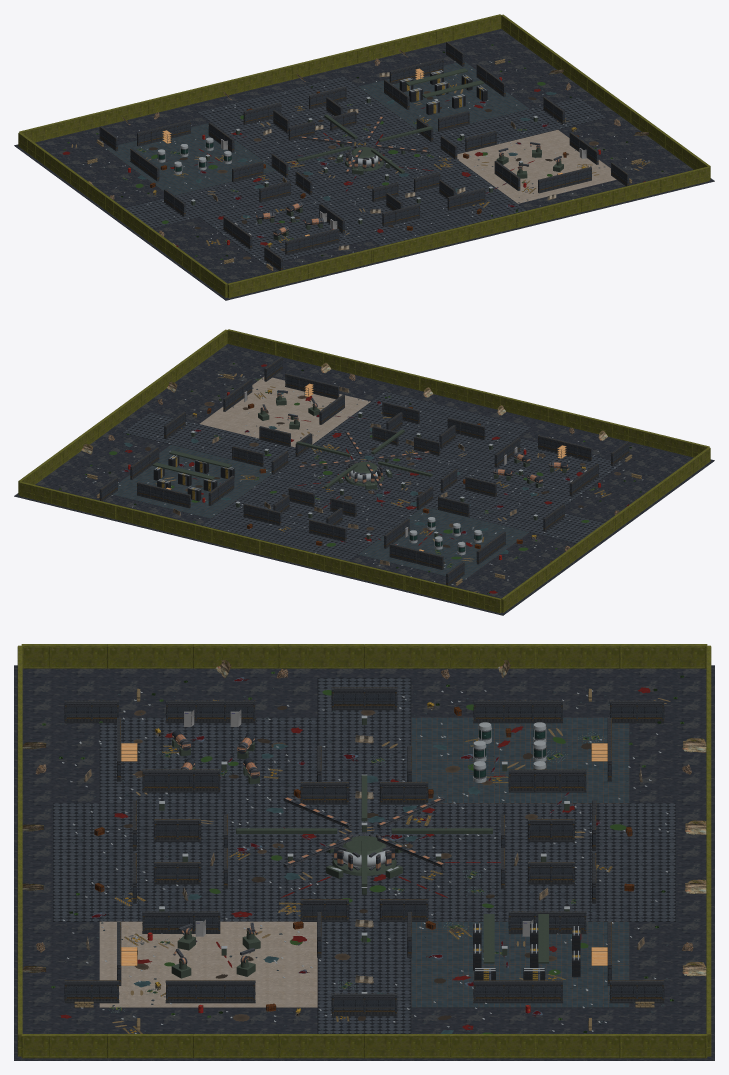
The model's file is Map2_Yeralti_Kuantum_Labirenti_5v5v5v5_v3.gltf.
3 renders of one model, top to bottom at view 1: azimuth 30°, elevation 25°; view 2: azimuth 150°, elevation 25°; view 3: azimuth 270°, elevation 25°, orthographic. The views are drawn at different scales.
Visible parts, largest first — view 1: Terrain_Quantum_Basalt, Floor_Tokamak_Core, Floor_Inner_Ring_North, Floor_Inner_Ring_South, Floor_SE_Robotics_Sector, Floor_SW_Accelerator_Sector, Floor_NW_BioStasis_Sector, Floor_NE_QuantumServer_Sector, Floor_Inner_Ring_West, Floor_Inner_Ring_East, Wall_Labyrinth_19, Wall_Labyrinth_20 (+32 smaller); view 2: Terrain_Quantum_Basalt, Floor_Tokamak_Core, Floor_Inner_Ring_South, Floor_Inner_Ring_North, Floor_SE_Robotics_Sector, Floor_SW_Accelerator_Sector, Floor_NW_BioStasis_Sector, Floor_NE_QuantumServer_Sector, Floor_Inner_Ring_West, Floor_Inner_Ring_East, Wall_Labyrinth_17, Wall_Labyrinth_18 (+32 smaller); view 3: Terrain_Quantum_Basalt, Floor_Tokamak_Core, Floor_Inner_Ring_North, Floor_Inner_Ring_South, Floor_SW_Accelerator_Sector, Floor_NW_BioStasis_Sector, Floor_SE_Robotics_Sector, Floor_NE_QuantumServer_Sector, Floor_Inner_Ring_East, Floor_Inner_Ring_West, Wall_Perimeter_24, Wall_Perimeter_25 (+41 smaller).
Boxes of the visible parts, box(x1,y1,x2,y2) form: Terrain_Quantum_Basalt: box(14, 29, 714, 300); Floor_Tokamak_Core: box(249, 114, 479, 211); Floor_Inner_Ring_North: box(197, 76, 394, 149); Floor_Inner_Ring_South: box(334, 176, 526, 246); Floor_SE_Robotics_Sector: box(457, 129, 616, 203); Floor_SW_Accelerator_Sector: box(199, 191, 370, 265); Floor_NW_BioStasis_Sector: box(105, 123, 276, 195); Floor_NE_QuantumServer_Sector: box(358, 61, 529, 132); Floor_Inner_Ring_West: box(124, 170, 304, 228); Floor_Inner_Ring_East: box(433, 97, 606, 153); Wall_Labyrinth_19: box(285, 228, 339, 254); Wall_Labyrinth_20: box(538, 167, 591, 193); Terrain_Quantum_Basalt: box(14, 344, 714, 615); Floor_Tokamak_Core: box(249, 429, 479, 526); Floor_Inner_Ring_South: box(334, 391, 531, 464); Floor_Inner_Ring_North: box(202, 491, 394, 561); Floor_SE_Robotics_Sector: box(199, 376, 370, 447); Floor_SW_Accelerator_Sector: box(452, 438, 623, 510); Floor_NW_BioStasis_Sector: box(358, 506, 529, 580); Floor_NE_QuantumServer_Sector: box(112, 444, 271, 518); Floor_Inner_Ring_West: box(424, 485, 604, 543); Floor_Inner_Ring_East: box(122, 412, 295, 468); Wall_Labyrinth_17: box(389, 543, 443, 569); Wall_Labyrinth_18: box(137, 482, 190, 508); Terrain_Quantum_Basalt: box(14, 665, 714, 1060); Floor_Tokamak_Core: box(224, 803, 504, 921); Floor_Inner_Ring_North: box(504, 803, 675, 921); Floor_Inner_Ring_South: box(53, 803, 224, 921); Floor_SW_Accelerator_Sector: box(99, 717, 317, 803); Floor_NW_BioStasis_Sector: box(411, 717, 629, 803); Floor_SE_Robotics_Sector: box(99, 921, 317, 1007); Floor_NE_QuantumServer_Sector: box(411, 921, 629, 1007); Floor_Inner_Ring_East: box(317, 921, 411, 1033); Floor_Inner_Ring_West: box(317, 678, 411, 803); Wall_Perimeter_24: box(364, 644, 450, 668); Wall_Perimeter_25: box(278, 644, 364, 668).
Size of the model in its own units: 120 by 4.81 by 90.
30 materials, 30 textured.
